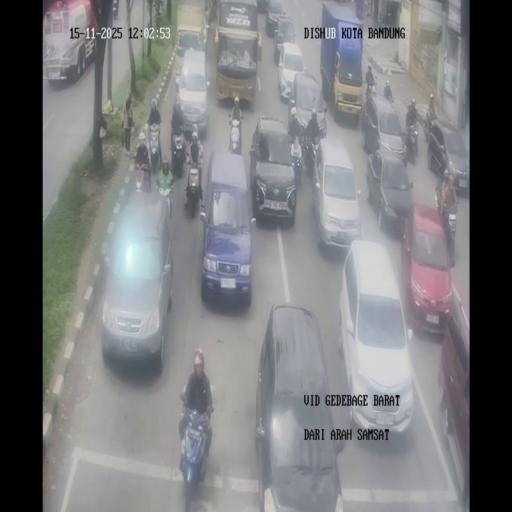car: (254, 304, 344, 508), (340, 240, 414, 436), (101, 189, 173, 367), (199, 150, 254, 304), (438, 292, 470, 503), (401, 206, 454, 333), (312, 136, 362, 255), (249, 114, 298, 224), (42, 0, 96, 84), (367, 149, 413, 234), (427, 118, 470, 194), (362, 93, 406, 163), (177, 48, 209, 136), (273, 14, 297, 64)
motorcycle: (177, 400, 216, 510), (436, 190, 458, 246), (183, 158, 203, 216), (146, 120, 163, 174), (170, 126, 187, 176), (288, 133, 303, 187), (306, 126, 322, 176), (134, 153, 152, 194), (404, 116, 419, 162), (157, 172, 174, 212), (228, 112, 243, 153), (424, 108, 436, 143), (381, 80, 394, 104), (365, 78, 377, 98), (174, 66, 181, 96), (112, 1, 118, 19)
truck: (320, 0, 364, 124), (215, 0, 262, 105)
